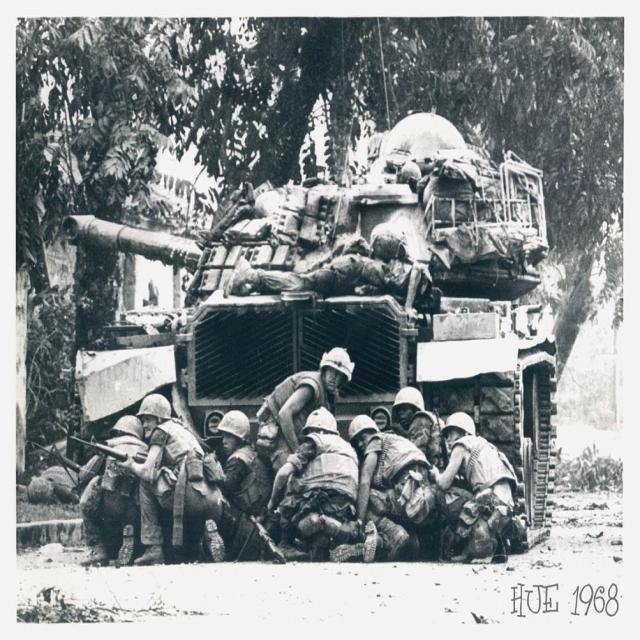tank: (62, 108, 556, 552)
